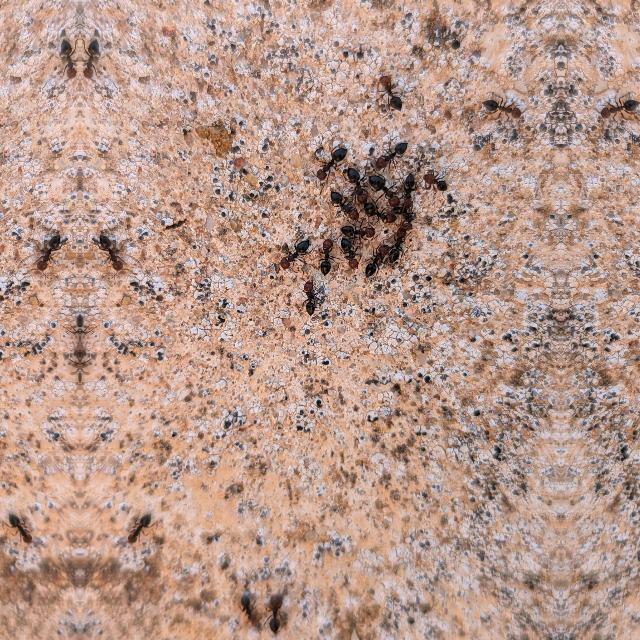Crematogaster: (370, 65, 410, 118), (368, 134, 420, 170), (480, 94, 530, 130), (591, 94, 640, 129), (310, 140, 344, 188), (364, 170, 398, 208)
